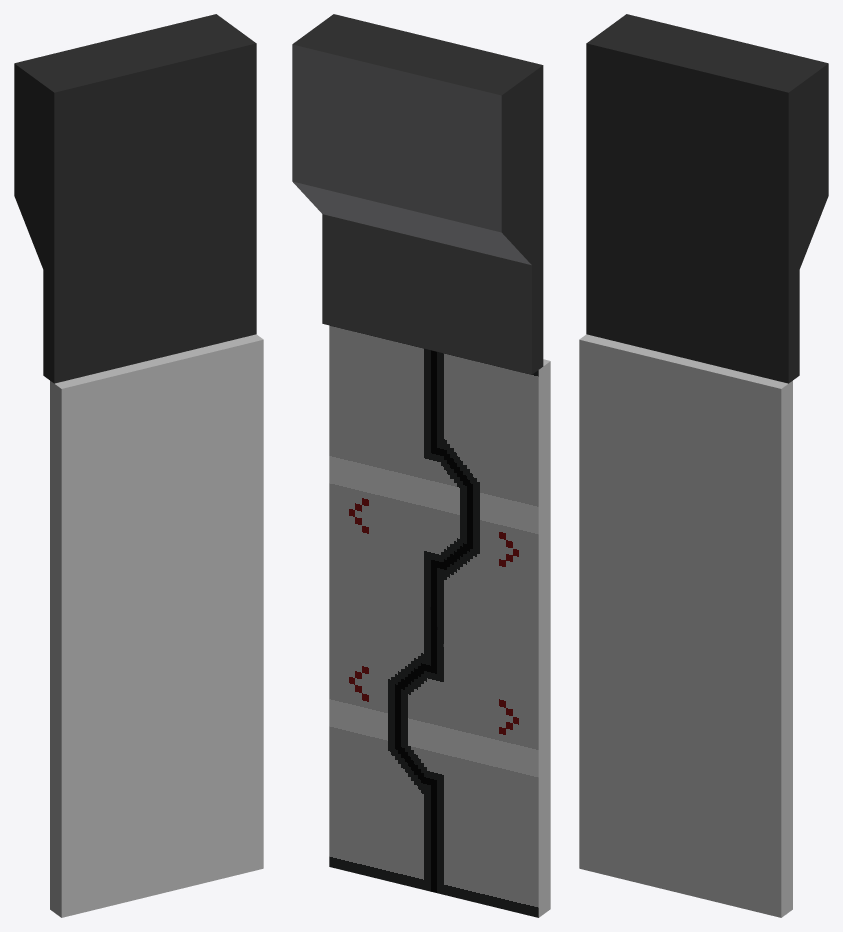
The model's file is CalShipCargoWallDoorMiddle2.gltf.
The picture shows the model from 3 angles, left to right: view 1: azimuth 30°, elevation 25°; view 2: azimuth 150°, elevation 25°; view 3: azimuth 330°, elevation 25°; orthographic projection. The views are drawn at different scales.
Parts seen in each view (by area): view 1: mesh; view 2: mesh; view 3: mesh.
Boxes of the visible parts, x1,y1,x2,y2 form: mesh: [14, 14, 263, 917]; mesh: [292, 14, 550, 917]; mesh: [579, 14, 828, 917].
Size of the model in its own units: 1 by 3.88 by 0.4063.
Materials: 1 (1 with a texture image).
